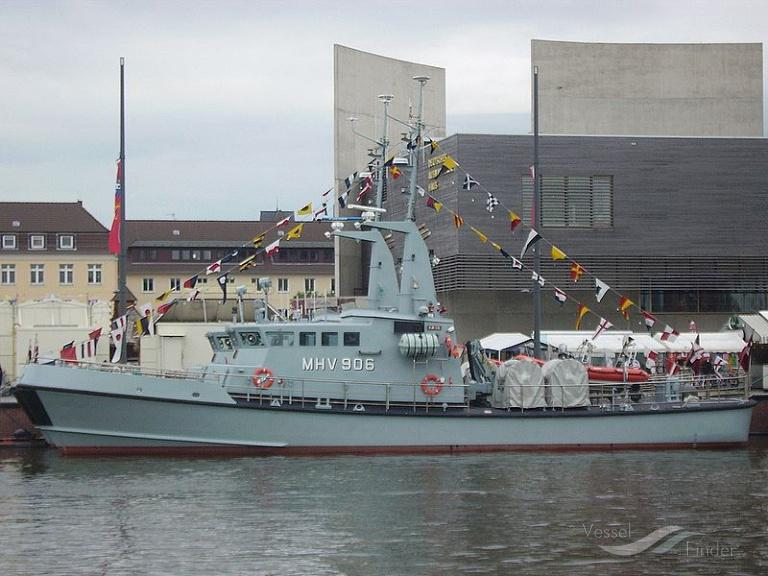OCR: (300, 353, 378, 378)
